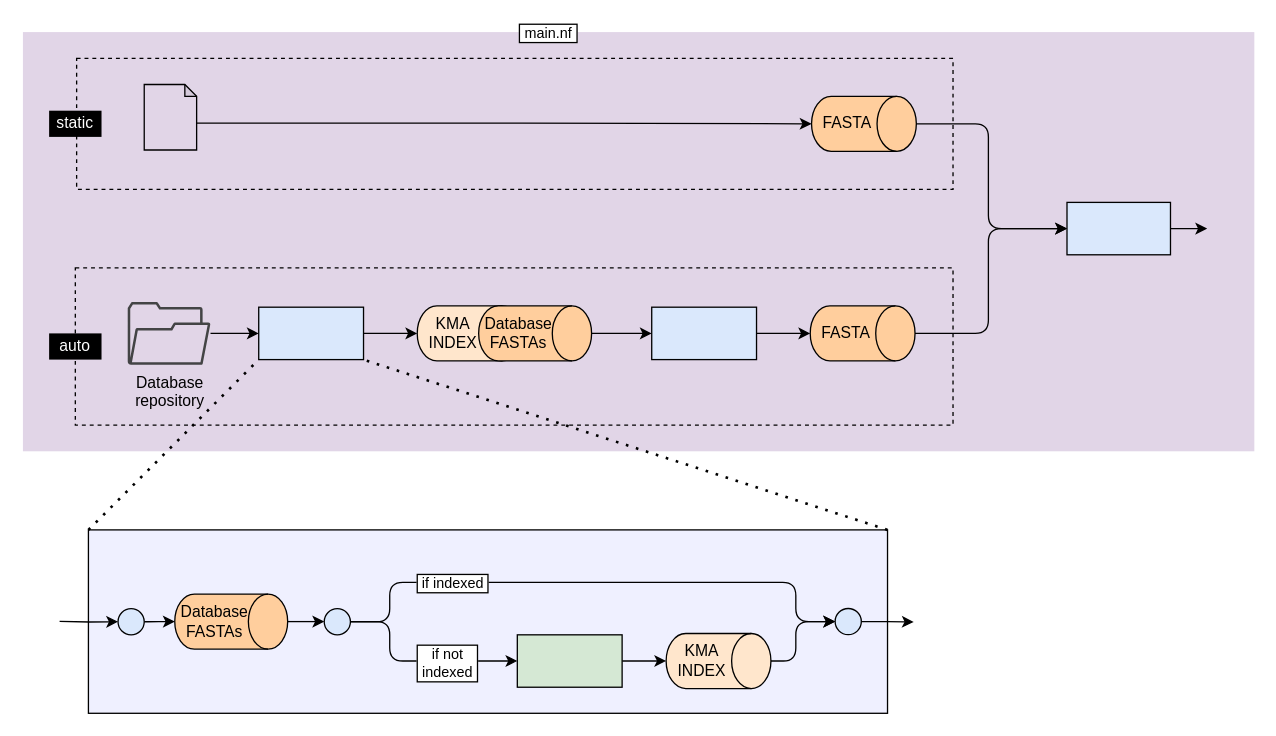
Some shapes in this 1276 by 736 pixel diagram are drawn without their labels. The shapes that lost their labels are listed below. From the top down, each one's centre as x and y in pixels, then its label:
At (170,116): "FASTA file".
At (1118,228): "Process Reference".
At (310,333): "Reference DB index".
At (703,333): "Reference Selection".
At (569,660): "nf-core/KMA_INDEX".
